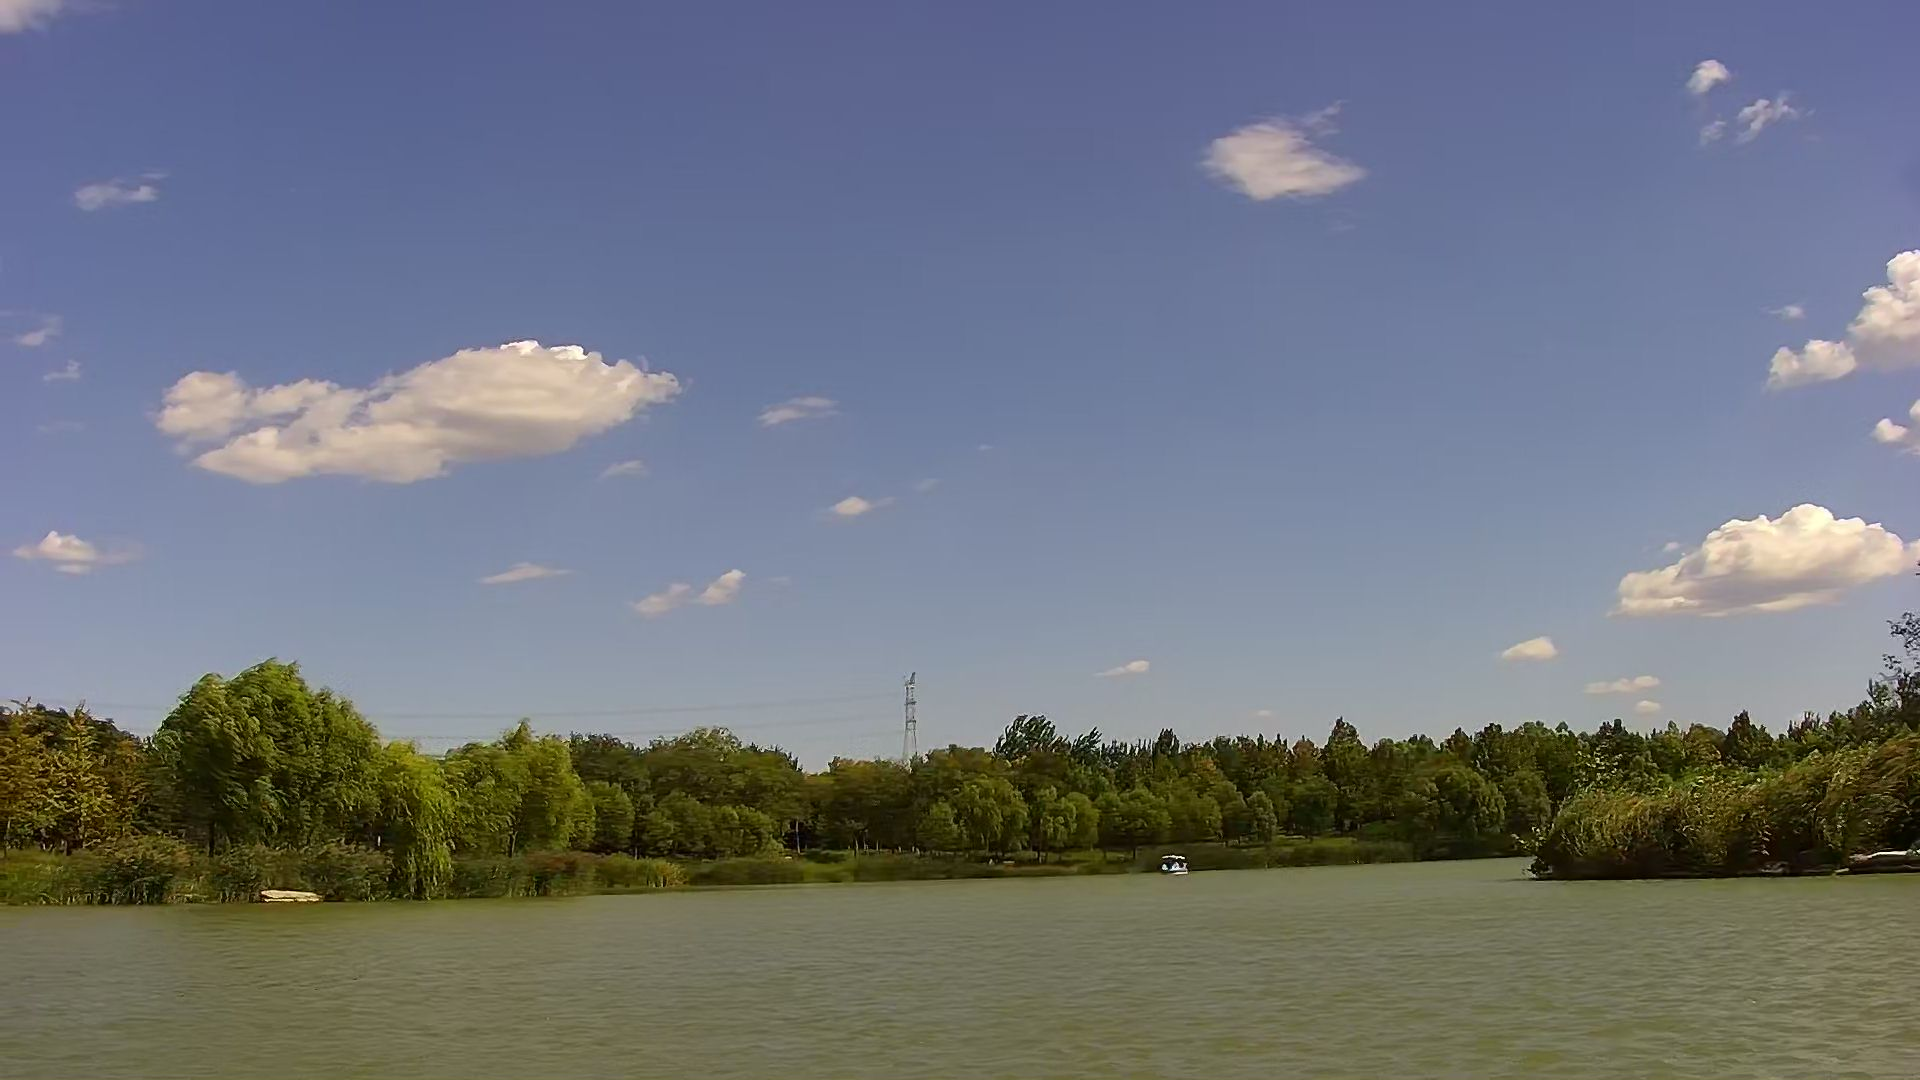boat: (1156, 851, 1195, 876)
